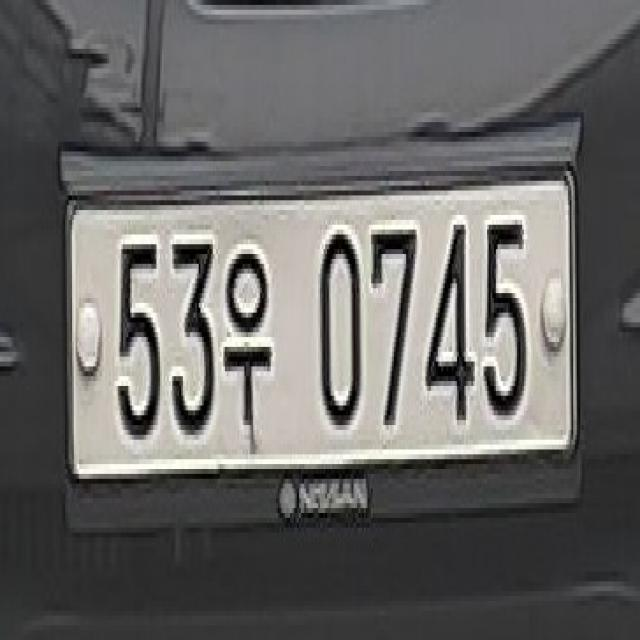0: (315, 200, 364, 445)
3: (167, 225, 220, 454)
4: (424, 186, 476, 444)
5: (107, 215, 169, 454), (475, 186, 536, 420)
7: (368, 200, 420, 450)
license_plate: (69, 156, 576, 552)
u: (218, 220, 287, 449)
